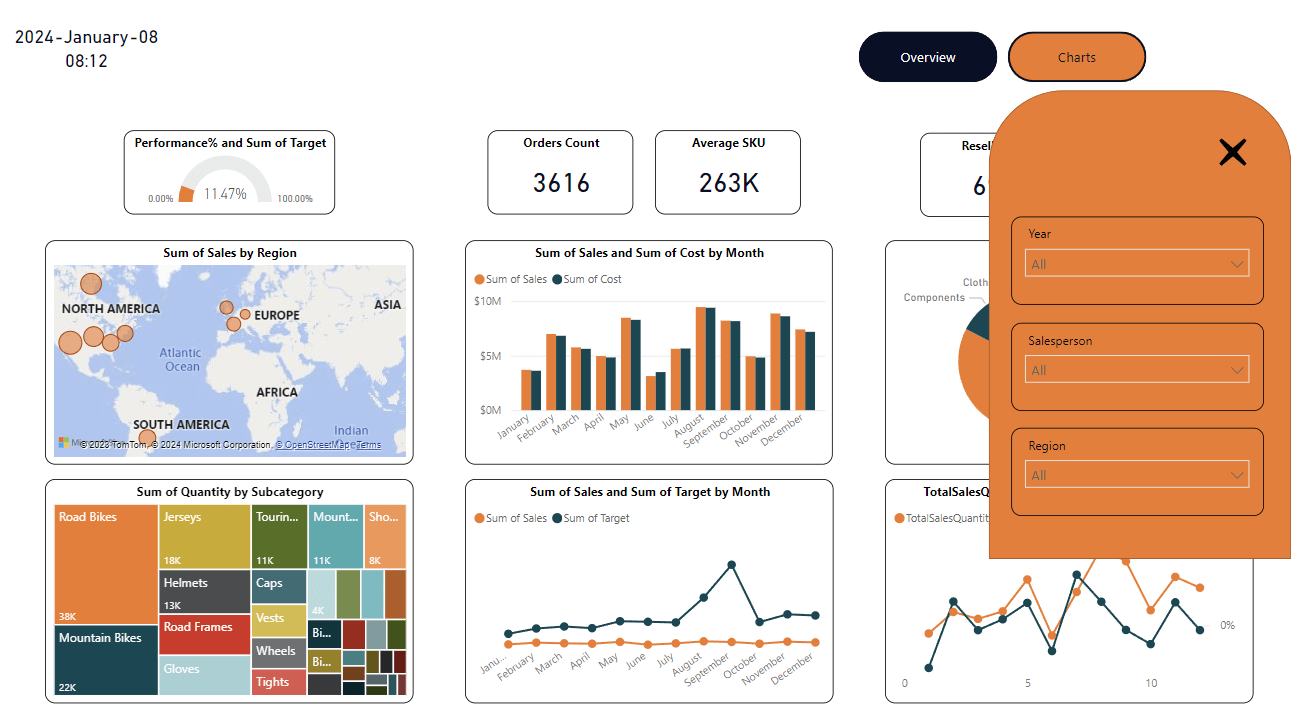

Layout of this report page (visuals, bound fields, positions):
{"tool":"powerbi","page":{"name":"Overview","canvas":[1280,720],"ordinal":0},"visuals":[{"type":"card","fields":{"Values":["Product.time"]},"box":[0,8.6,180.9,58.7],"z":0,"group":"g1"},{"type":"lineChart","fields":{"Y":["Sum(Sales.Sales)","Sum(Targets.Target)"],"Category":["DimDate.Miladi.Variation.Date Hierarchy.Month"]},"box":[464.5,474.3,364.3,221.3],"z":0},{"type":"card","fields":{"Values":["Product.Time"]},"box":[0,31.8,180.9,58.7],"z":1000,"group":"g1"},{"type":"map","fields":{"Category":["Region.Region"],"Size":["Sum(Sales.Sales)"]},"box":[49.1,238.1,364.3,221.3],"z":1000},{"type":"treemap","fields":{"Group":["Product.Subcategory"],"Values":["Sum(Sales.Quantity)"]},"box":[48.9,474.3,364.3,221.3],"z":2000},{"type":"pieChart","fields":{"Y":["Sum(Sales.Sales)"],"Category":["Product.Category"]},"box":[879.1,238.4,363.1,221.3],"z":3000},{"type":"clusteredColumnChart","fields":{"Y":["Sum(Sales.Sales)","Sum(Sales.Cost)"],"Category":["DimDate.Miladi.Variation.Date Hierarchy.Month"]},"box":[464.7,238.1,363.1,221.3],"z":4000},{"type":"gauge","fields":{"TargetValue":["Sum(Targets.Target)"],"Y":["Measurments.Performance%"]},"box":[127.1,129.6,209,83.1],"z":5000},{"type":"group","id":"g1","title":"Group 1","box":[0,8.6,180.9,81.9],"z":6000},{"type":"image","box":[1144.2,8.6,127.1,81.9],"z":7000},{"type":"lineChart","fields":{"Y":["Measurments.TotalSalesQuantity"],"Y2":["Measurments.GrowthRate%"],"Category":["DimDate.mmonthN"]},"box":[878.9,474.3,364.3,221.3],"z":8000},{"type":"pageNavigator","box":[853.2,31.8,284.8,50.1],"z":11000},{"type":"card","title":"Orders Count","fields":{"Values":["Count(Sales.SalesOrderNumber)"]},"box":[486.8,129.1,144.2,83.1],"z":12000},{"type":"card","title":"Average SKU","fields":{"Values":["Measurments.AverageSKU"]},"box":[651.8,129.1,144.2,83.1],"z":13000},{"type":"card","title":"Reseller No","fields":{"Values":["Count(Reseller.Reseller)"]},"box":[913.1,131.5,144.2,83.1],"z":14000},{"type":"card","title":"Reseller Sales","fields":{"Values":["Measurments.ResellerTotal"]},"box":[1072.1,131.5,144.2,83.1],"z":15000}]}

Visuals, with their boxes in screenshot pixels (x1, y1, x2, y2), scaled from the page's 1280x720 canvas onto the 1312x725 screenshot:
card - Product.time: l=0, t=9, r=185, b=68
lineChart - Sum(Sales.Sales) x Sum(Targets.Target): l=476, t=478, r=850, b=700
card - Product.Time: l=0, t=32, r=185, b=91
map - Region.Region x Sum(Sales.Sales): l=50, t=240, r=424, b=463
treemap - Product.Subcategory x Sum(Sales.Quantity): l=50, t=478, r=424, b=700
pieChart - Sum(Sales.Sales) x Product.Category: l=901, t=240, r=1273, b=463
clusteredColumnChart - Sum(Sales.Sales) x Sum(Sales.Cost): l=476, t=240, r=848, b=463
gauge - Sum(Targets.Target) x Measurments.Performance%: l=130, t=130, r=345, b=214
"Group 1" group: l=0, t=9, r=185, b=91
image: l=1173, t=9, r=1303, b=91
lineChart - Measurments.TotalSalesQuantity x Measurments.GrowthRate%: l=901, t=478, r=1274, b=700
pageNavigator: l=875, t=32, r=1166, b=82
"Orders Count" card: l=499, t=130, r=647, b=214
"Average SKU" card: l=668, t=130, r=816, b=214
"Reseller No" card: l=936, t=132, r=1084, b=216
"Reseller Sales" card: l=1099, t=132, r=1247, b=216
